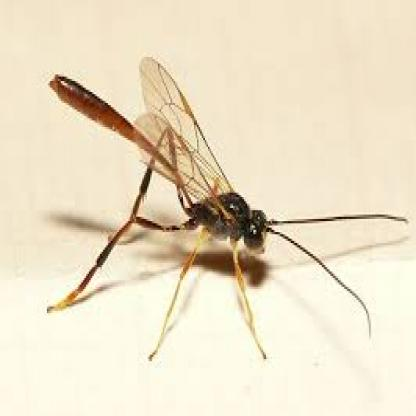sawfly: (47, 56, 407, 358)
